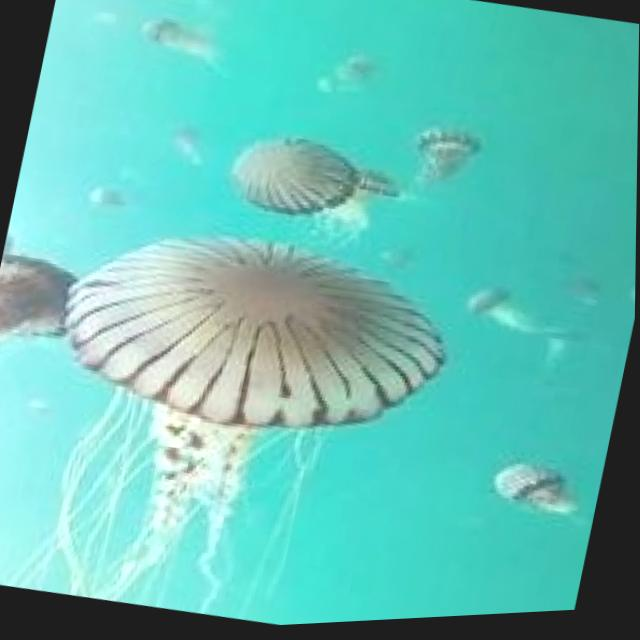Box-jellyfish: (222, 122, 407, 239), (490, 456, 588, 523)
